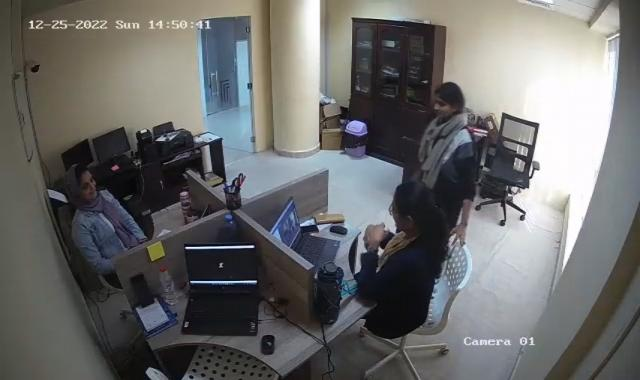no_hairnet: (391, 185, 434, 232), (64, 164, 99, 203), (435, 82, 463, 121)
